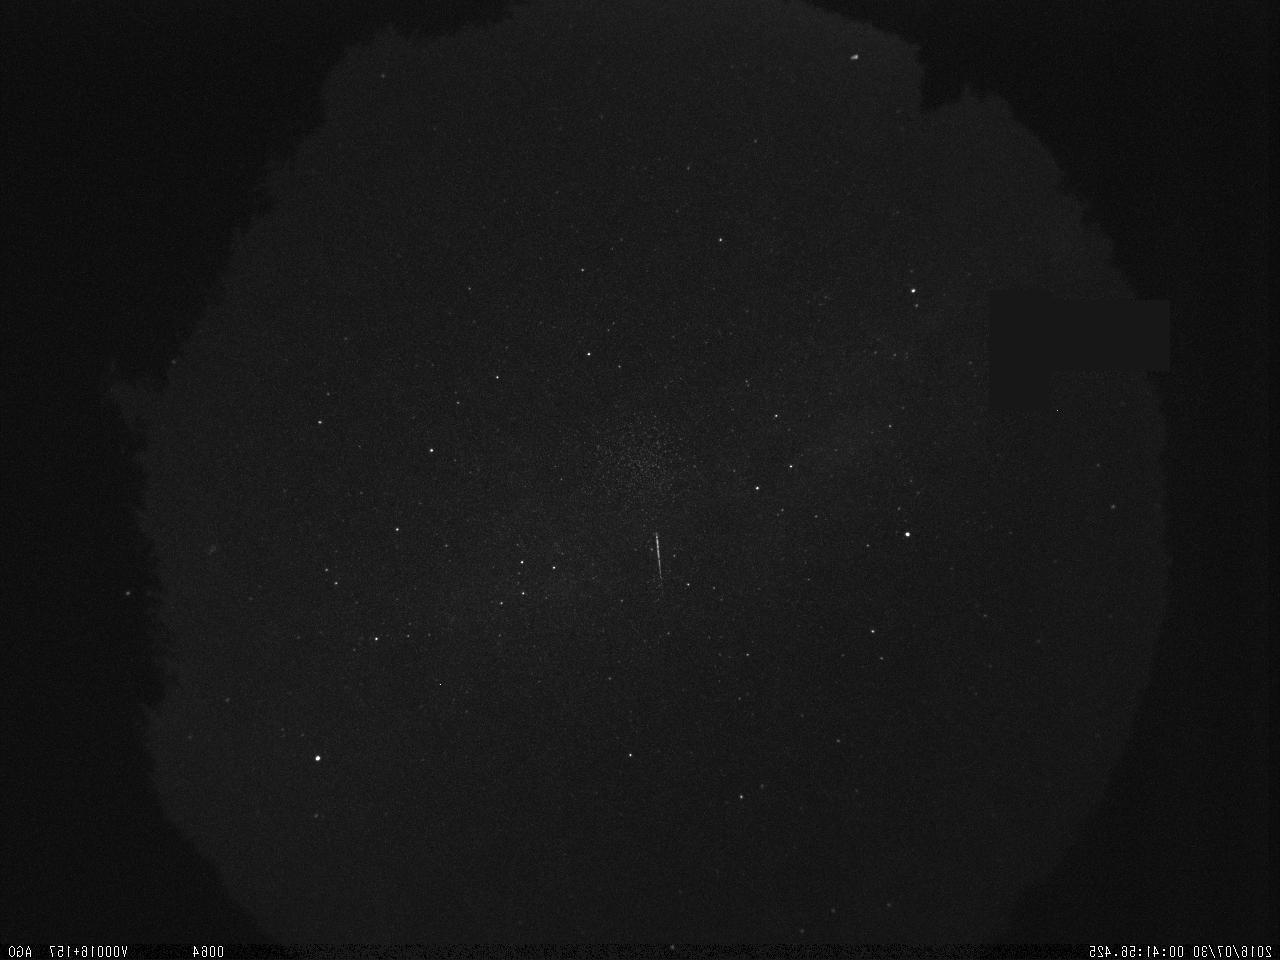meteor: (635, 519, 680, 597)
